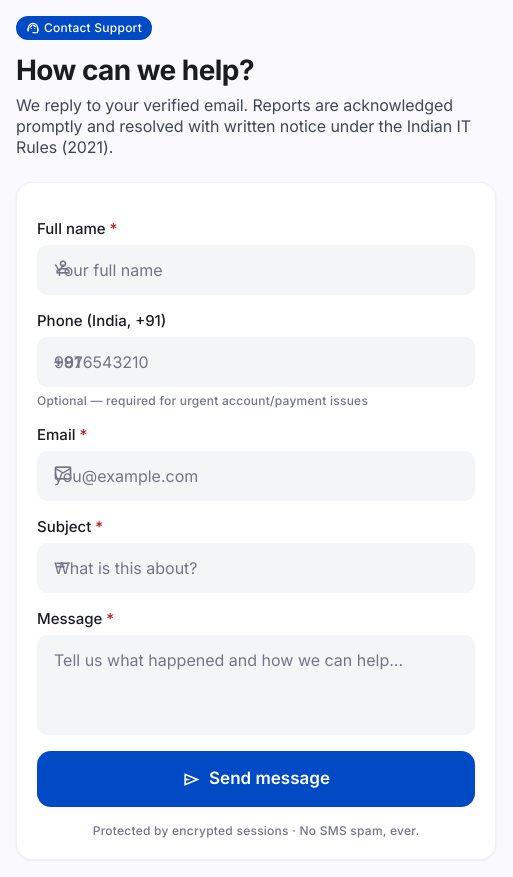
Test: phone input › strips non-digits and limits to 10
Type "91-988-776 65 43" into the field labelled "Phone (India, +91)". click: (256, 362)
box: [37, 337, 475, 387]
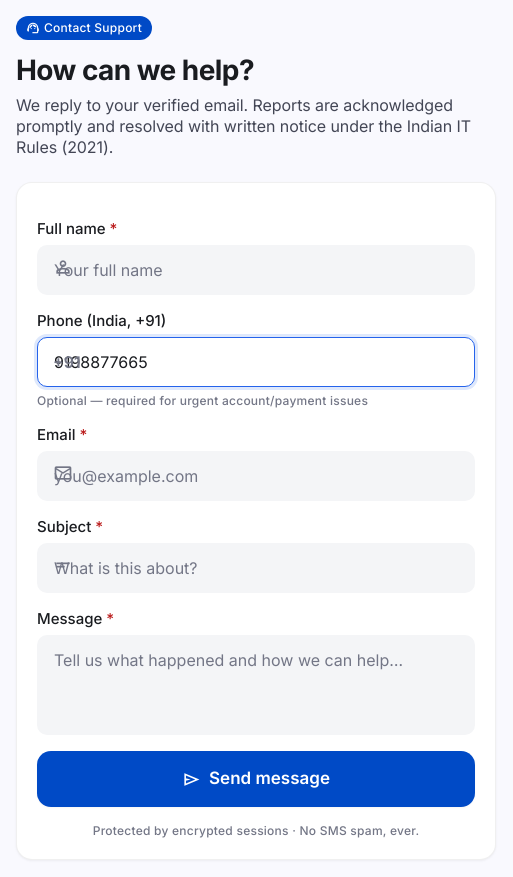
Check: the field labelled "Phone (India, +91)" holds "9198877665", box [37, 337, 475, 387]
